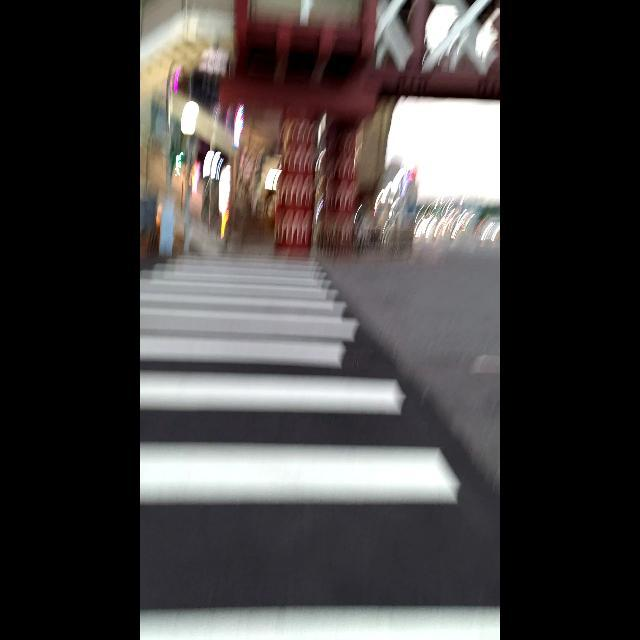sidewalk: (140, 255, 464, 504)
